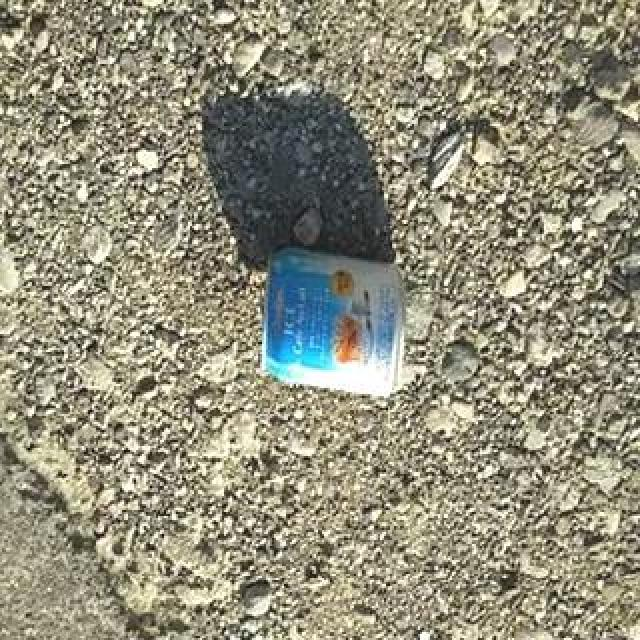Can: (252, 232, 410, 408)
